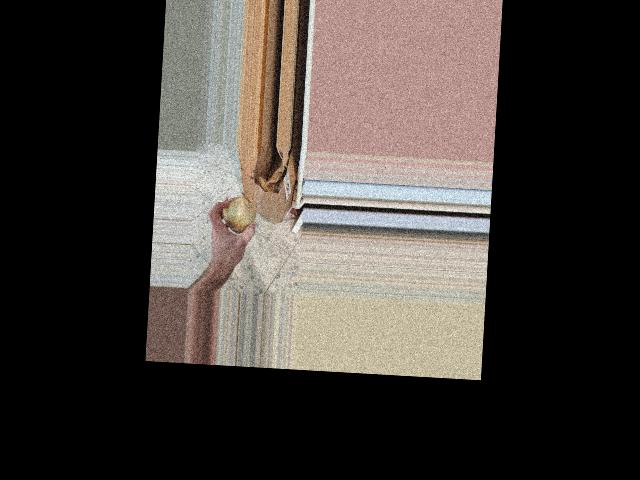onion: (219, 191, 258, 234)
